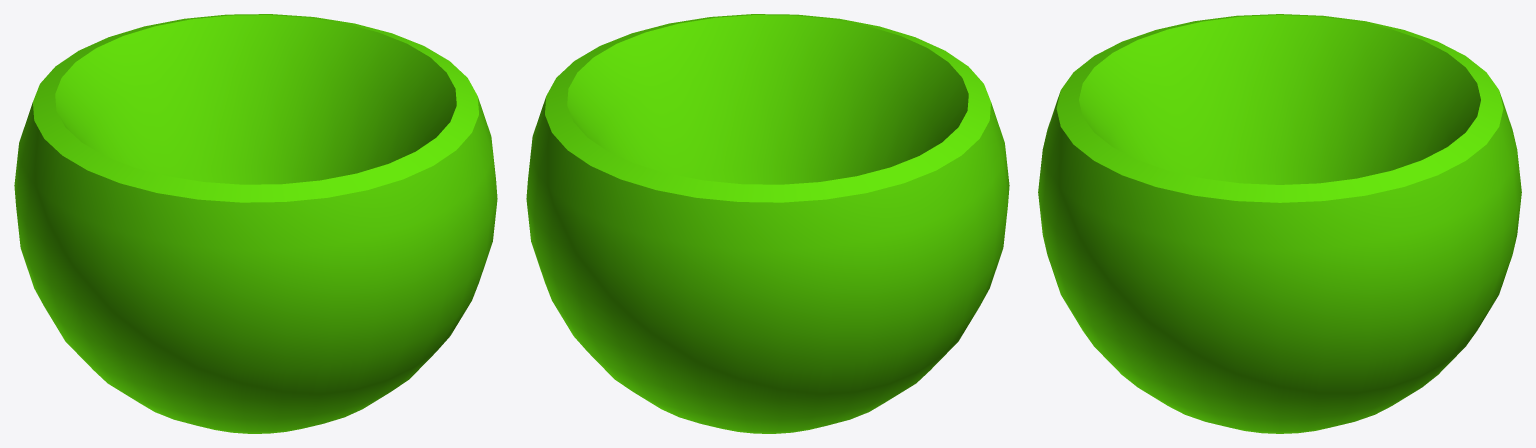
The model's file is miska.glb.
3 renders of one model, left to right at view 1: azimuth 30°, elevation 25°; view 2: azimuth 150°, elevation 25°; view 3: azimuth 270°, elevation 25°, orthographic.
Visible parts, largest first — view 1: Sphere; view 2: Sphere; view 3: Sphere.
Part boxes in pixels (<box>): Sphere: <box>14,14,497,433</box>; Sphere: <box>526,14,1009,433</box>; Sphere: <box>1038,14,1521,433</box>.
Size of the model in its own units: 27.17 by 20.3 by 27.17.
